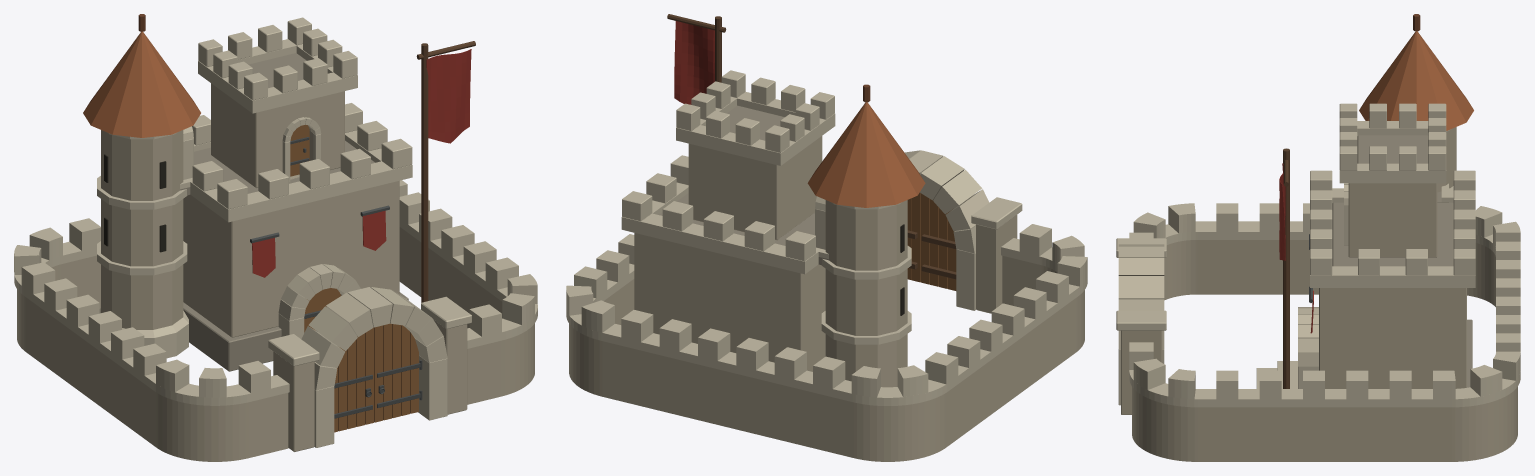
Rendered from realm-settlement-draft.glb.
The picture shows the model from 3 angles, left to right: view 1: azimuth 30°, elevation 25°; view 2: azimuth 150°, elevation 25°; view 3: azimuth 270°, elevation 25°; orthographic projection. The views are drawn at different scales.
Visible parts, largest first — view 1: Warm limestone, Limestone coping, Oak doors, Watchtower clay roof, Limestone mortar, Realm order banner, Dark oak framing, Forged iron, Keep order hanging, Keep order hanging.001, Recessed openings; view 2: Warm limestone, Limestone coping, Watchtower clay roof, Oak doors, Realm order banner, Limestone mortar, Dark oak framing; view 3: Warm limestone, Limestone coping, Watchtower clay roof, Limestone mortar, Dark oak framing, Realm order banner.
Part boxes in pixels (x1,y1,x2,y2): Warm limestone: (17,83,534,461); Limestone coping: (14,17,537,447); Oak doors: (290,124,418,432); Watchtower clay roof: (83,31,200,137); Limestone mortar: (180,53,408,371); Realm order banner: (426,49,471,143); Dark oak framing: (416,41,475,302); Forged iron: (250,137,422,418); Keep order hanging: (252,237,275,277); Keep order hanging.001: (362,210,386,250); Recessed openings: (104,154,166,252); Warm limestone: (569,136,1084,461); Limestone coping: (566,70,1087,405); Watchtower clay roof: (807,102,925,207); Oak doors: (907,192,956,290); Realm order banner: (674,21,714,104); Limestone mortar: (659,105,828,265); Dark oak framing: (667,14,956,279); Warm limestone: (1121,127,1517,461); Limestone coping: (1116,103,1520,407); Watchtower clay roof: (1359,31,1473,130); Limestone mortar: (1332,135,1472,387); Dark oak framing: (1283,148,1289,388); Realm order banner: (1279,163,1285,260).
Size of the model in its own units: 1.42 by 1.18 by 1.37.
